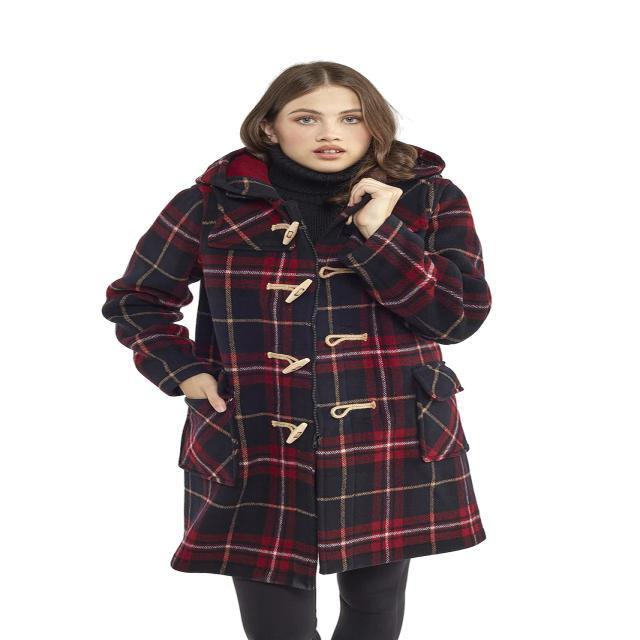coat: (98, 139, 497, 590)
